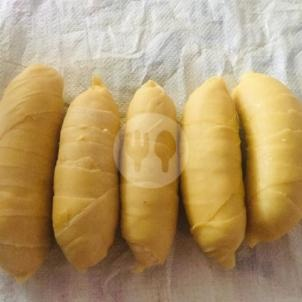pisang_molen: (0, 61, 64, 279), (50, 78, 120, 275), (179, 75, 247, 270), (116, 79, 179, 273), (235, 65, 302, 242)
